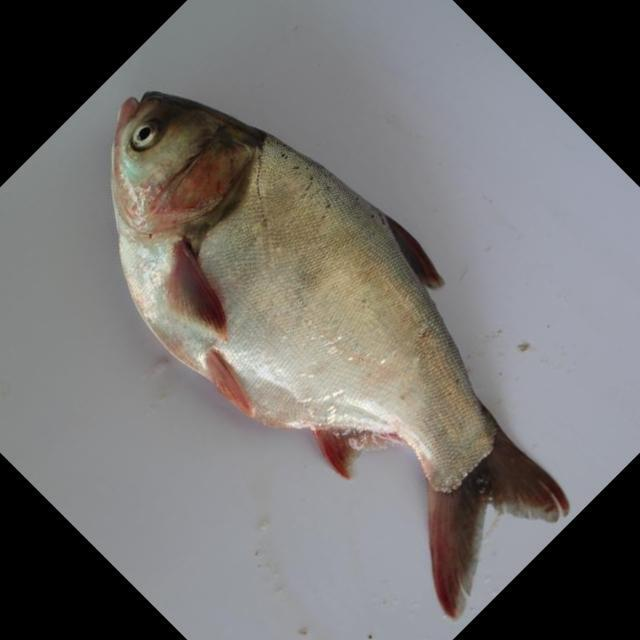SilverCarp: (117, 95, 580, 597)
